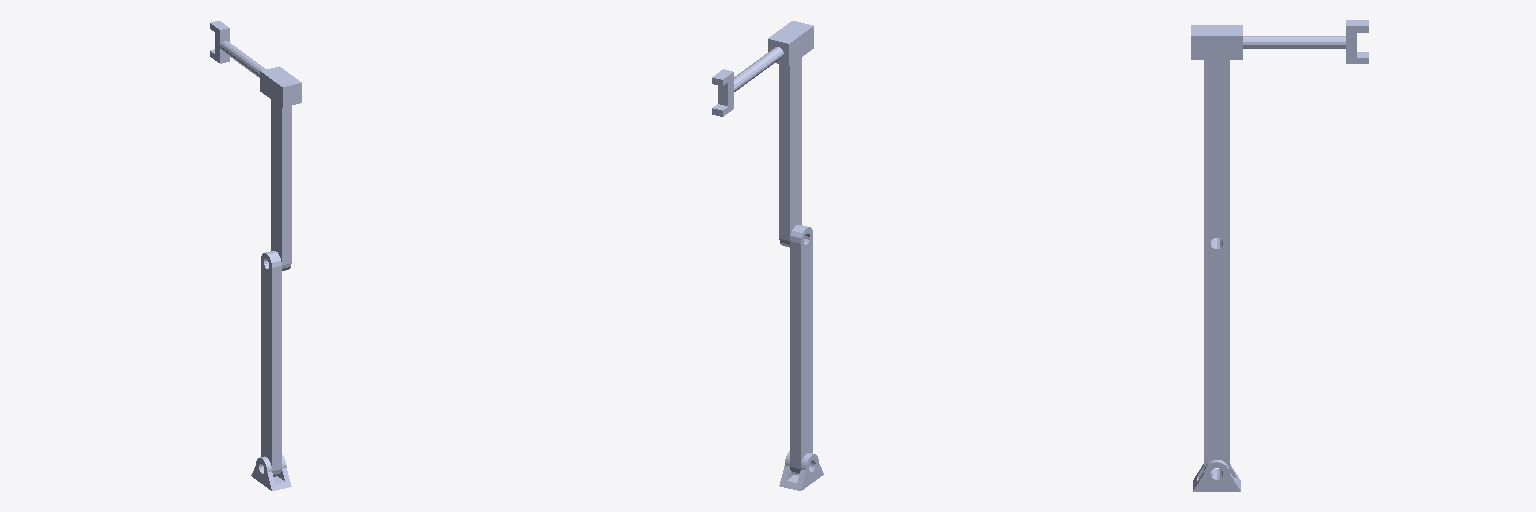
The robot description file, URDF, robot "testarm":
<?xml version="1.0" encoding="utf-8"?>
<!-- This URDF was automatically created by SolidWorks to URDF Exporter! Originally created by [author] ([email redacted]) 
     Commit Version: 1.6.0-1-g15f4949  Build Version: 1.6.7594.29634
     For more information, please see http://wiki.ros.org/sw_urdf_exporter -->
<robot
  name="testarm">
  <link
    name="base_link">
    <inertial>
      <origin
        xyz="0.009809 0.014873 0.028912"
        rpy="0 0 0" />
      <mass
        value="0.0068061" />
      <inertia
        ixx="8.3374E-07"
        ixy="-3.4814E-23"
        ixz="-5.0638E-23"
        iyy="8.3775E-07"
        iyz="-3.6391E-24"
        izz="6.1787E-07" />
    </inertial>
    <visual>
      <origin
        xyz="0 0 0"
        rpy="0 0 0" />
      <geometry>
        <mesh
          filename="package://testarm/meshes/base_link.STL" />
      </geometry>
      <material
        name="">
        <color
          rgba="0.79216 0.81961 0.93333 1" />
      </material>
    </visual>
    <collision>
      <origin
        xyz="0 0 0"
        rpy="0 0 0" />
      <geometry>
        <mesh
          filename="package://testarm/meshes/base_link.STL" />
      </geometry>
    </collision>
  </link>
  <link
    name="link_1">
    <inertial>
      <origin
        xyz="-0.1 0.005 -6.9389E-18"
        rpy="0 0 0" />
      <mass
        value="0.041571" />
      <inertia
        ixx="1.7485E-06"
        ixy="-3.25E-22"
        ixz="-2.4313E-21"
        iyy="0.00015318"
        iyz="-3.4096E-23"
        izz="0.00015212" />
    </inertial>
    <visual>
      <origin
        xyz="0 0 0"
        rpy="0 0 0" />
      <geometry>
        <mesh
          filename="package://testarm/meshes/link_1.STL" />
      </geometry>
      <material
        name="">
        <color
          rgba="0.79216 0.81961 0.93333 1" />
      </material>
    </visual>
    <collision>
      <origin
        xyz="0 0 0"
        rpy="0 0 0" />
      <geometry>
        <mesh
          filename="package://testarm/meshes/link_1.STL" />
      </geometry>
    </collision>
  </link>
  <joint
    name="rev_1"
    type="continuous">
    <origin
      xyz="0.004809 -0.028912 0.022287"
      rpy="1.5708 1.5708 0" />
    <parent
      link="base_link" />
    <child
      link="link_1" />
    <axis
      xyz="0 1 0" />
  </joint>
  <link
    name="link_2">
    <inertial>
      <origin
        xyz="-0.10603 -0.01 -0.00033269"
        rpy="0 0 0" />
      <mass
        value="0.047215" />
      <inertia
        ixx="3.8164E-06"
        ixy="1.2428E-21"
        ixz="-1.0048E-06"
        iyy="0.00016282"
        iyz="-1.1081E-22"
        izz="0.00016059" />
    </inertial>
    <visual>
      <origin
        xyz="0 0 0"
        rpy="0 0 0" />
      <geometry>
        <mesh
          filename="package://testarm/meshes/link_2.STL" />
      </geometry>
      <material
        name="">
        <color
          rgba="0.79216 0.81961 0.93333 1" />
      </material>
    </visual>
    <collision>
      <origin
        xyz="0 0 0"
        rpy="0 0 0" />
      <geometry>
        <mesh
          filename="package://testarm/meshes/link_2.STL" />
      </geometry>
    </collision>
  </link>
  <joint
    name="rev_2"
    type="continuous">
    <origin
      xyz="-0.2 0.005 0"
      rpy="3.1416 0 0" />
    <parent
      link="link_1" />
    <child
      link="link_2" />
    <axis
      xyz="0 1 0" />
  </joint>
  <link
    name="link_3">
    <inertial>
      <origin
        xyz="-0.069331 0 -1.7347E-17"
        rpy="0 0 0" />
      <mass
        value="0.011896" />
      <inertia
        ixx="6.0089E-07"
        ixy="-4.1019E-22"
        ixz="-8.3328E-23"
        iyy="1.5356E-05"
        iyz="4.5517E-24"
        izz="1.5792E-05" />
    </inertial>
    <visual>
      <origin
        xyz="0 0 0"
        rpy="0 0 0" />
      <geometry>
        <mesh
          filename="package://testarm/meshes/link_3.STL" />
      </geometry>
      <material
        name="">
        <color
          rgba="0.79216 0.81961 0.93333 1" />
      </material>
    </visual>
    <collision>
      <origin
        xyz="0 0 0"
        rpy="0 0 0" />
      <geometry>
        <mesh
          filename="package://testarm/meshes/link_3.STL" />
      </geometry>
    </collision>
  </link>
  <joint
    name="rev_3"
    type="continuous">
    <origin
      xyz="-0.17 -0.01 0"
      rpy="1.5708 1.5708 0" />
    <parent
      link="link_2" />
    <child
      link="link_3" />
    <axis
      xyz="1 0 0" />
  </joint>
</robot>

--- What the picture shows (computed from the rendered views, not written in the file) ---
Views: 3 orthographic renders of the robot side by side, from view 1: azimuth 30°, elevation 25°; view 2: azimuth 150°, elevation 25°; view 3: azimuth 270°, elevation 25°.
Robot: testarm — 4 links, 3 joints (3 continuous); root link base_link; default pose: every joint at zero.
Visible links, largest first — view 1: link_2, link_1, link_3, base_link; view 2: link_1, link_2, link_3, base_link; view 3: link_2, link_1, link_3, base_link.
Link boxes in pixels (<box>): link_2: <box>260,66,301,270</box>; link_1: <box>261,251,281,476</box>; link_3: <box>210,21,265,77</box>; base_link: <box>251,455,291,490</box>; link_1: <box>790,225,812,474</box>; link_2: <box>768,21,813,247</box>; link_3: <box>712,47,783,116</box>; base_link: <box>779,451,823,490</box>; link_2: <box>1191,25,1242,254</box>; link_1: <box>1204,238,1229,476</box>; link_3: <box>1243,20,1368,63</box>; base_link: <box>1193,460,1240,491</box>.
Bounding box of the posed robot: 0.03 × 0.1382 × 0.4015 m (x, y, z).
Meshes: 4 distinct files referenced, 4 mesh visuals loaded (4 binary STL).
